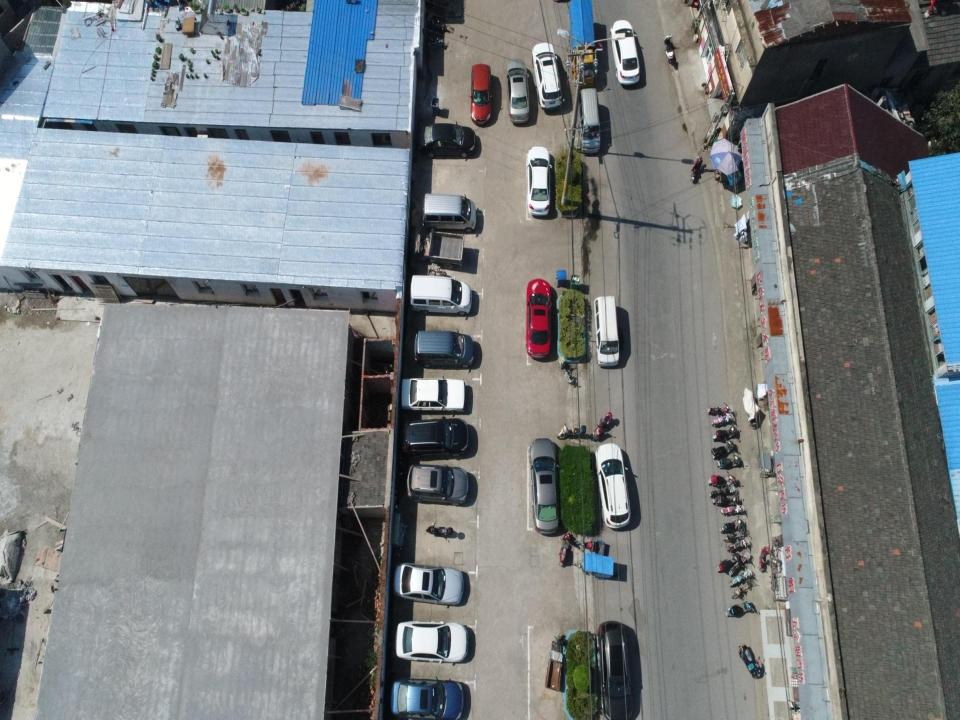car: (395, 620, 469, 666), (597, 621, 632, 717), (392, 561, 464, 606), (528, 438, 560, 535), (391, 679, 464, 719), (597, 444, 630, 530), (408, 463, 469, 507), (403, 419, 468, 459), (401, 374, 464, 412), (525, 278, 552, 359), (420, 122, 476, 158), (609, 19, 640, 84), (532, 44, 562, 110), (526, 146, 551, 218), (504, 59, 528, 123), (468, 64, 492, 126)
truck: (569, 0, 595, 87)
van: (412, 274, 472, 316), (414, 331, 474, 368), (423, 194, 477, 232), (594, 296, 620, 368), (578, 87, 600, 154)
